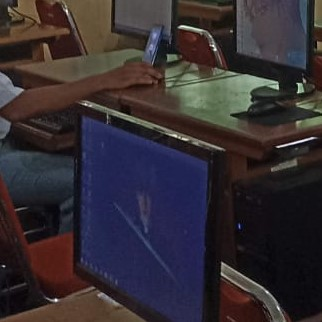monitor: (72, 101, 224, 316), (231, 0, 314, 88), (110, 0, 179, 54)
